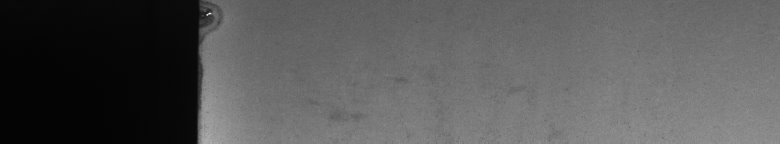hb: (208, 4, 229, 40)
